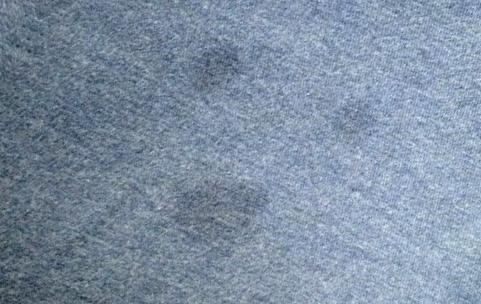stain: (171, 177, 268, 251), (191, 41, 243, 98), (326, 98, 375, 142)
